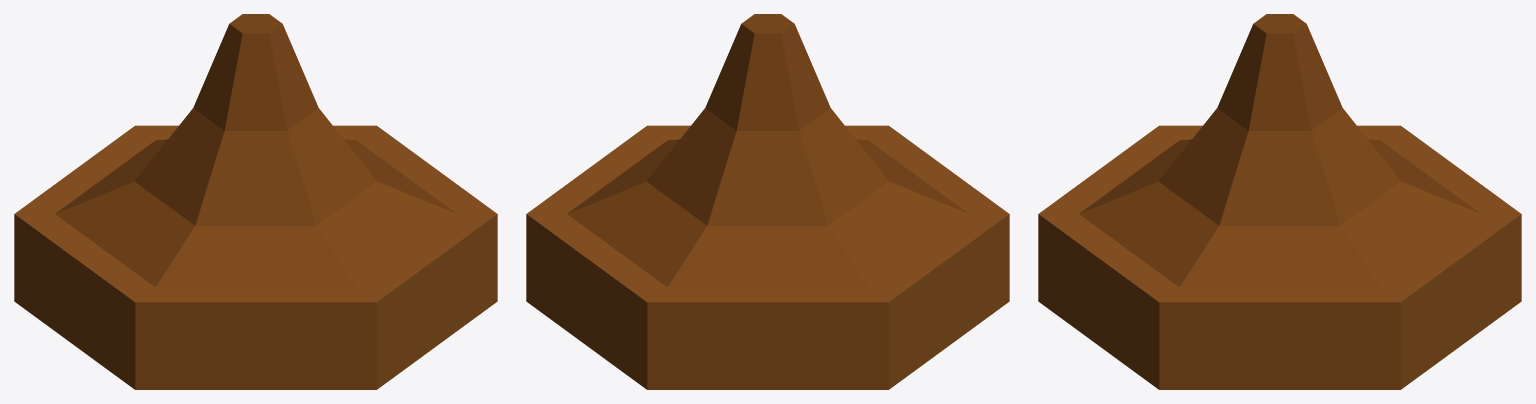
File: TileHex_10.fbx
3 views of the same model, side by side, from view 1: azimuth 30°, elevation 25°; view 2: azimuth 150°, elevation 25°; view 3: azimuth 270°, elevation 25° (orthographic).
Parts seen in each view (by area): view 1: TileHex_10; view 2: TileHex_10; view 3: TileHex_10.
Part boxes in pixels (<box>): TileHex_10: <box>14,14,497,389</box>; TileHex_10: <box>526,14,1009,389</box>; TileHex_10: <box>1038,14,1521,389</box>.
Size of the model in its own units: 433 by 317 by 500.
